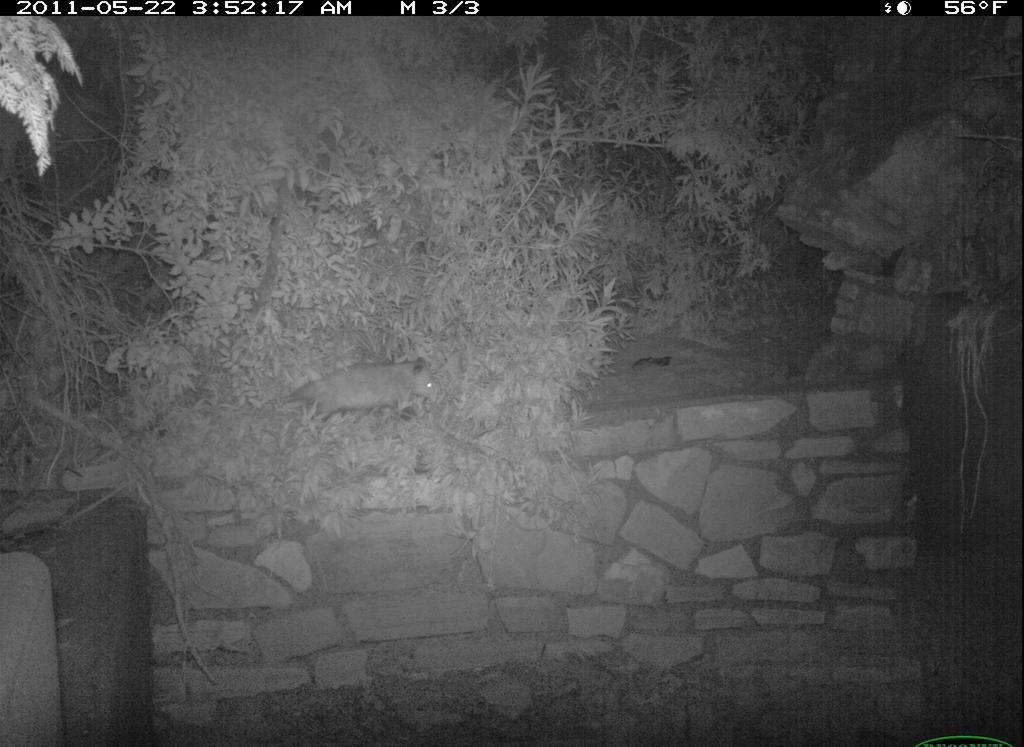opossum: (251, 351, 446, 429)
